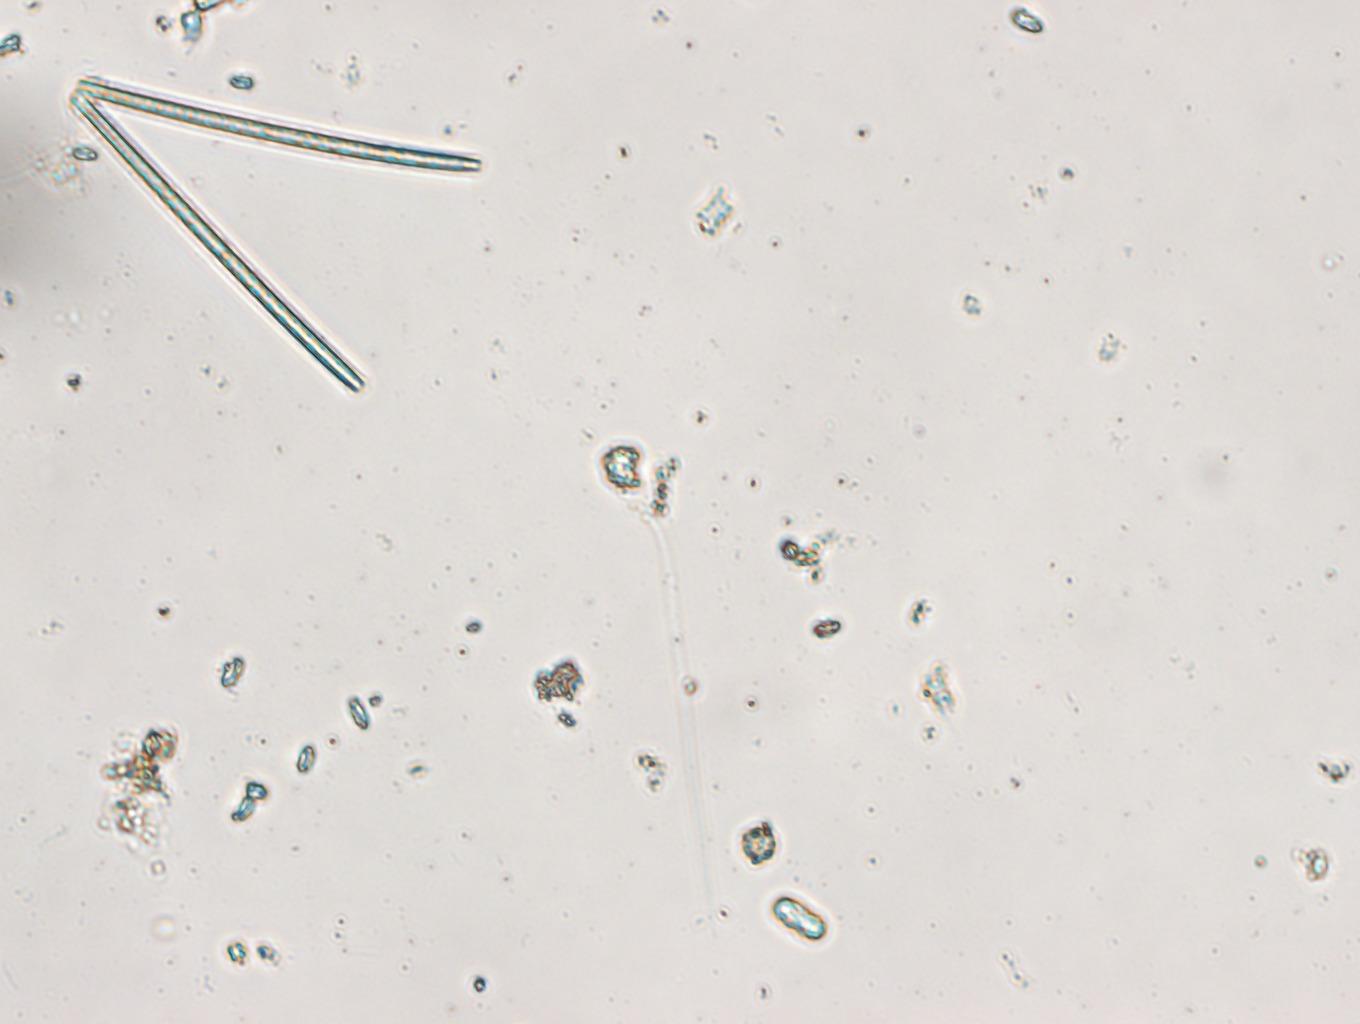thalassionema frauenfeldii: (69, 75, 482, 394)
